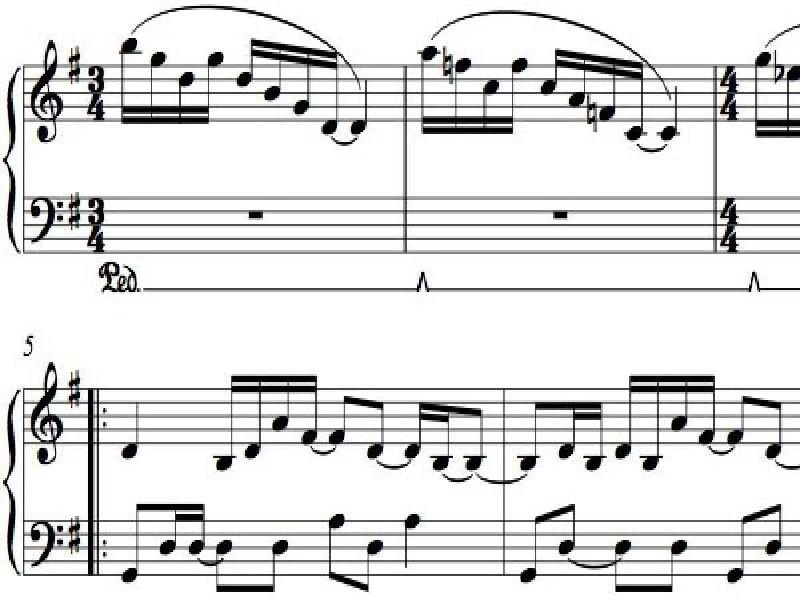C: (122, 497, 150, 587), (319, 505, 346, 587), (516, 397, 543, 469), (728, 509, 752, 588), (521, 509, 543, 585), (355, 535, 383, 592), (760, 500, 786, 558), (266, 535, 288, 597), (767, 392, 786, 462), (557, 501, 580, 558), (666, 536, 686, 599), (210, 537, 231, 594), (613, 534, 630, 595)
CF: (30, 193, 66, 242), (30, 520, 65, 567)
CS: (28, 37, 64, 142), (33, 360, 66, 463)
N: (121, 401, 145, 461), (400, 516, 428, 567)
SB: (542, 203, 574, 223), (245, 208, 272, 226)
SC: (641, 368, 666, 469), (315, 43, 340, 139), (113, 37, 137, 130), (418, 42, 441, 139), (216, 371, 238, 471), (623, 58, 648, 142), (201, 41, 223, 132), (290, 43, 314, 126), (362, 392, 390, 459), (752, 49, 773, 138), (460, 392, 483, 472), (245, 371, 265, 461), (504, 53, 525, 137), (618, 375, 639, 458), (600, 46, 622, 122), (586, 400, 607, 477), (477, 73, 500, 141), (302, 366, 320, 449), (699, 372, 719, 446), (455, 56, 473, 134), (271, 370, 292, 436), (264, 39, 285, 105), (669, 374, 692, 434), (566, 47, 588, 108), (436, 397, 454, 471), (404, 395, 424, 459), (236, 38, 261, 89), (147, 50, 163, 126), (562, 397, 581, 461), (161, 499, 181, 558), (542, 49, 565, 99), (176, 65, 193, 129), (330, 390, 350, 444), (190, 498, 208, 555)
SOS: (66, 189, 84, 231), (66, 369, 83, 409), (66, 513, 82, 555), (68, 45, 82, 85)
